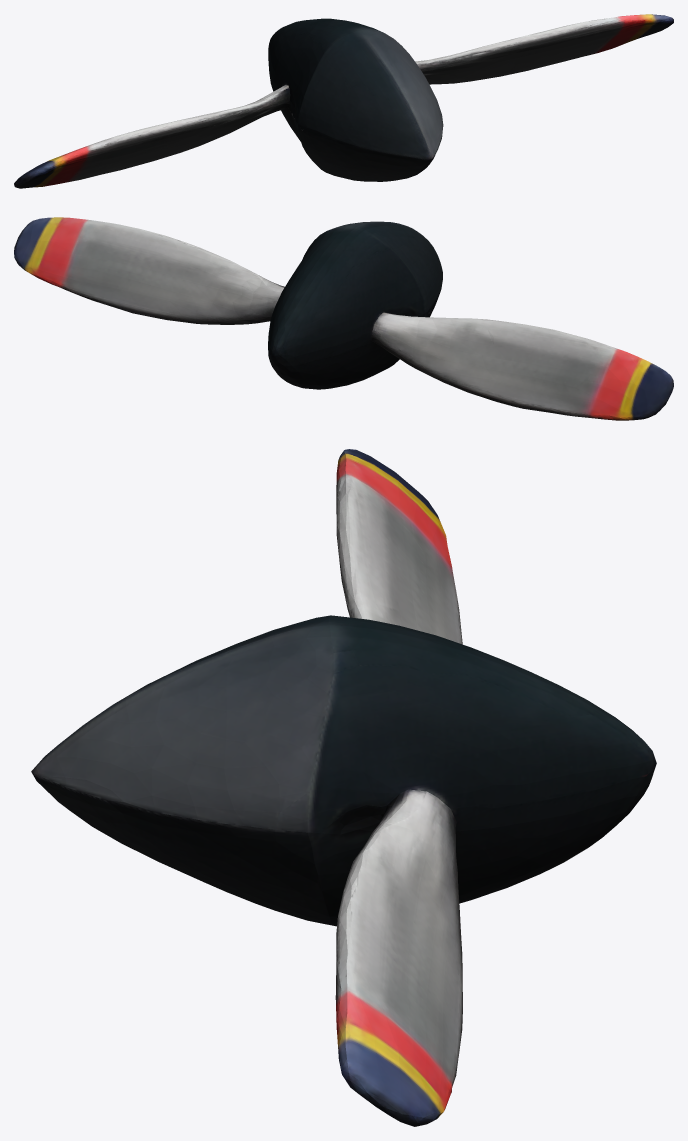
The model's file is plane_propeller.glb.
3 views of the same model, one above another, from view 1: azimuth 30°, elevation 25°; view 2: azimuth 150°, elevation 25°; view 3: azimuth 270°, elevation 25° (orthographic). The views are drawn at different scales.
Visible parts, largest first — view 1: world; view 2: world; view 3: world.
Boxes of the visible parts, left/top/right/bottom form: world: left=14, top=14, right=673, bottom=188; world: left=14, top=217, right=673, bottom=420; world: left=31, top=449, right=656, bottom=1126.
Bounding box in the file's own units: 0.6997 × 0.1496 × 0.291.
Materials: 1 (1 with a texture image).
